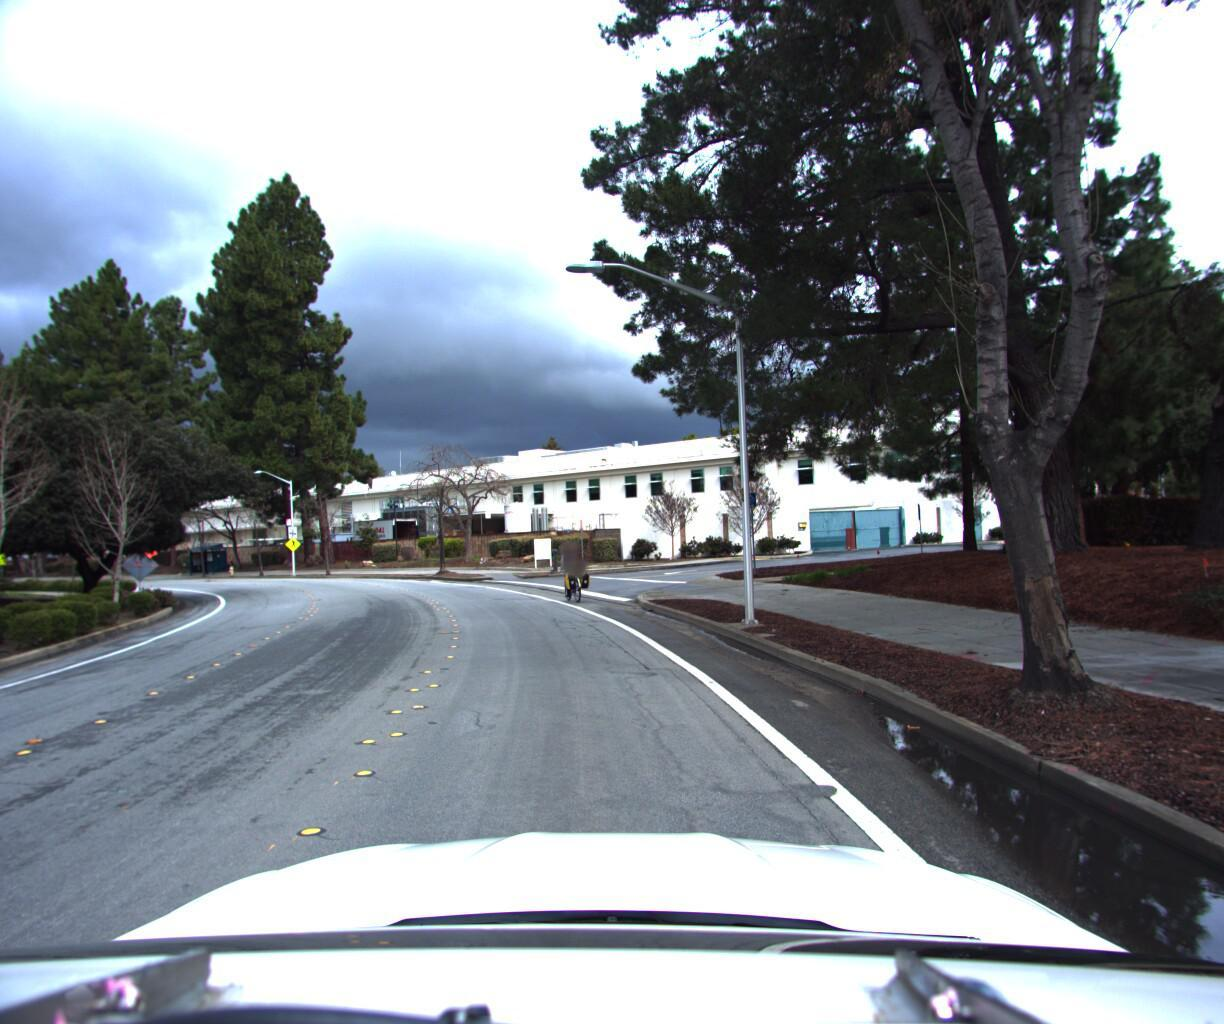bicycle: (548, 537, 595, 602)
truck: (342, 513, 424, 554)
